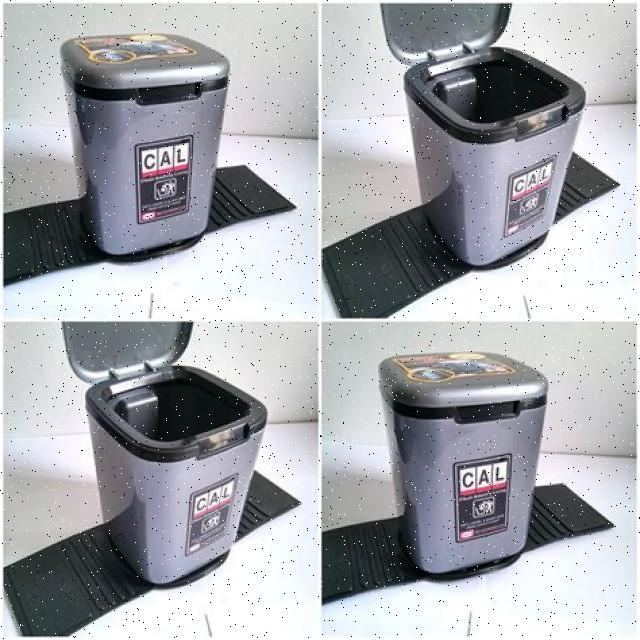garbage container: (349, 1, 640, 278), (347, 340, 615, 601), (45, 328, 299, 593), (58, 19, 272, 271)
